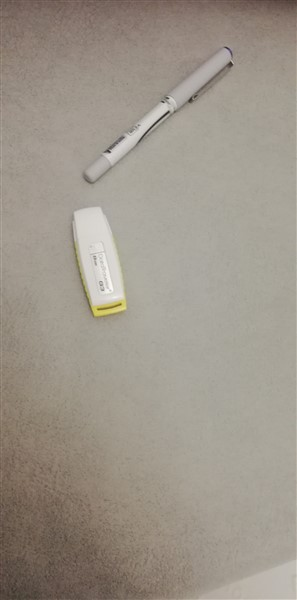flash disk: (67, 204, 142, 320)
pilot kalem: (81, 42, 241, 185)
